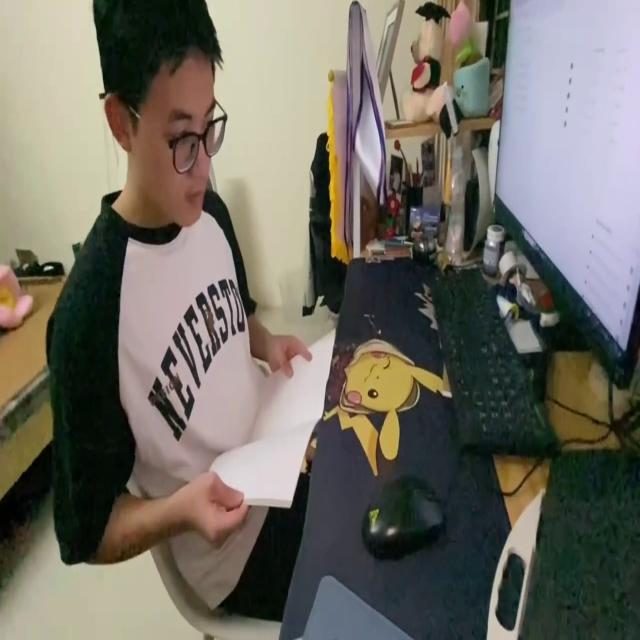book: (203, 325, 337, 514)
laptop: (491, 0, 640, 393)
student: (42, 0, 312, 622)
